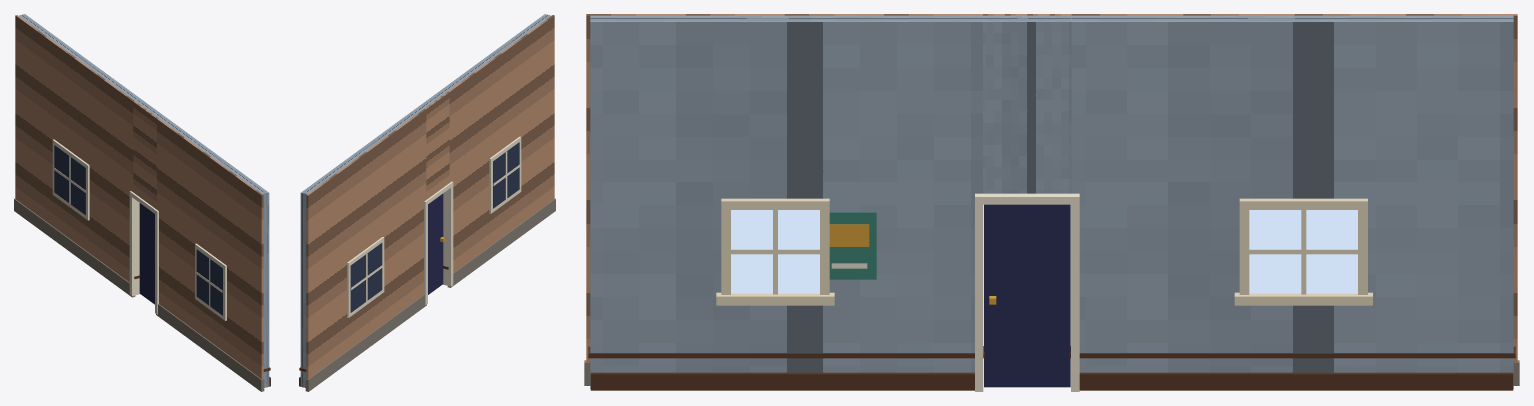
File: left.glb
3 renders of one model, left to right at view 1: azimuth 30°, elevation 25°; view 2: azimuth 150°, elevation 25°; view 3: azimuth 270°, elevation 25°, orthographic. The views are drawn at different scales.
Parts seen in each view (by area): view 1: Box6, Box8, Box10, Box3, Box7, Box9, Box14, Box18, Box29, Box11, Box1, Box17 (+2 smaller); view 2: Box6, Box8, Box10, Box1, Box7, Box18, Box14, Box9, Box29, Box12, Box3, Box17 (+2 smaller); view 3: Box1, Box3, Box14, Box5, Box25, Box2, Box4, Box36, Box43, Box6, Box8, Box45 (+13 smaller).
Boxes of the visible parts, box(x1,y1,x2,y2) form: Box6: box(15, 15, 134, 296); Box8: box(157, 118, 263, 378); Box10: box(133, 101, 158, 209); Box3: box(159, 116, 269, 387); Box7: box(14, 198, 135, 297); Box9: box(156, 304, 264, 391); Box14: box(139, 203, 154, 304); Box18: box(54, 145, 85, 215); Box29: box(196, 249, 222, 315); Box11: box(129, 191, 139, 295); Box1: box(19, 14, 141, 100); Box17: box(52, 139, 89, 220); Box6: box(306, 109, 426, 378); Box8: box(448, 15, 554, 287); Box10: box(424, 91, 449, 199); Box1: box(300, 107, 423, 387); Box7: box(305, 294, 426, 391); Box18: box(350, 243, 382, 312); Box14: box(428, 193, 443, 294); Box9: box(447, 198, 555, 287); Box29: box(493, 142, 519, 208); Box12: box(443, 181, 453, 286); Box3: box(441, 14, 550, 91); Box17: box(347, 237, 384, 317); Box1: box(1071, 15, 1513, 388); Box3: box(590, 15, 982, 388); Box14: box(984, 204, 1070, 387); Box5: box(983, 15, 1071, 193); Box25: box(1249, 210, 1357, 293); Box2: box(1079, 372, 1513, 390); Box4: box(590, 372, 974, 390); Box36: box(731, 210, 819, 293); Box43: box(1069, 346, 1515, 358); Box6: box(1071, 14, 1517, 362); Box8: box(586, 14, 982, 362); Box45: box(588, 346, 984, 358).
Bounding box in the file's own units: 0.338 × 4.14 × 9.47.
Materials: 11 (2 with a texture image).
